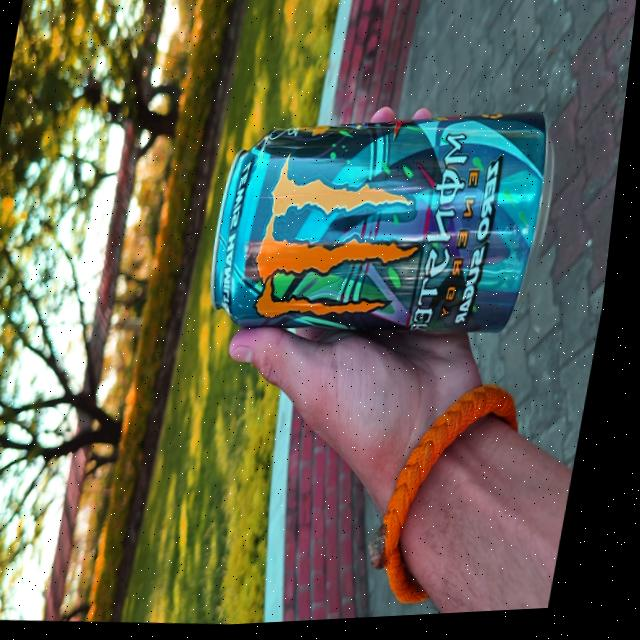Monster LH44: (198, 93, 567, 371)
